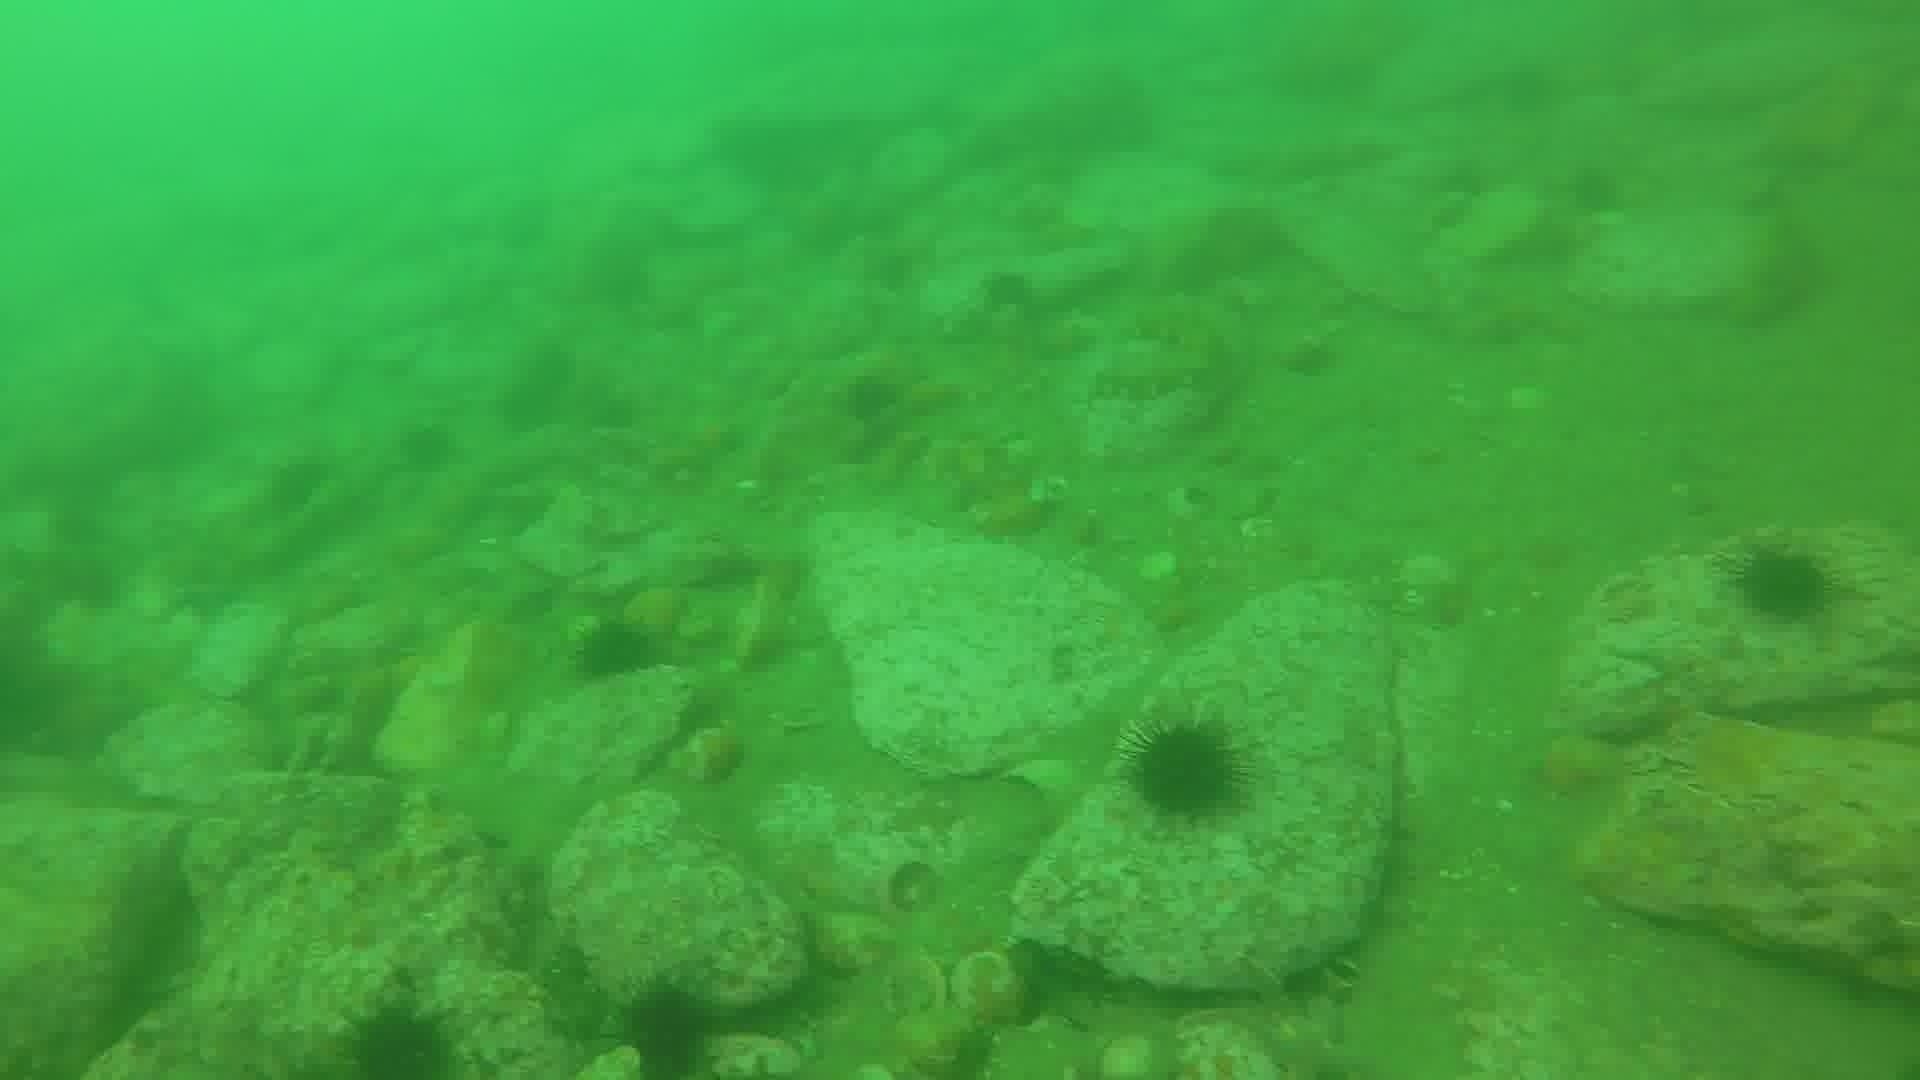echinus: (1117, 712, 1251, 827), (615, 980, 720, 1075), (1729, 541, 1838, 630), (338, 1000, 463, 1076), (568, 615, 662, 688), (260, 450, 335, 520), (392, 417, 462, 479), (1563, 160, 1629, 222)
